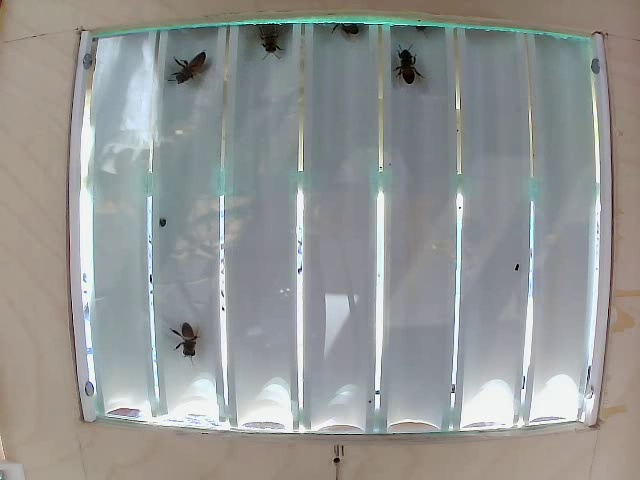bee: (163, 311, 209, 358), (176, 49, 206, 98), (384, 44, 418, 86)
